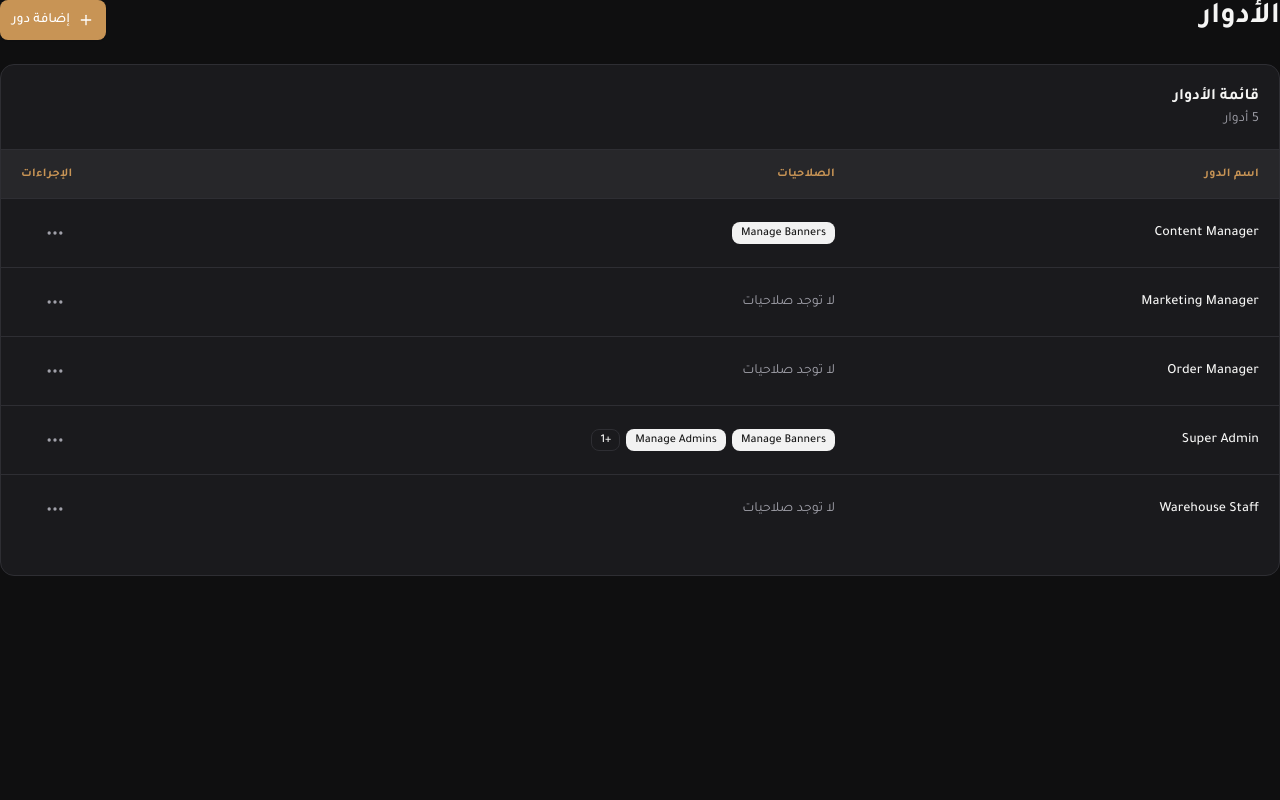
Test: RolesPage › keeps the permissions picker operable in RTL
The image size is (1280, 800).
Click the button "إضافة دور": point(53, 20) [0, 0, 106, 40]
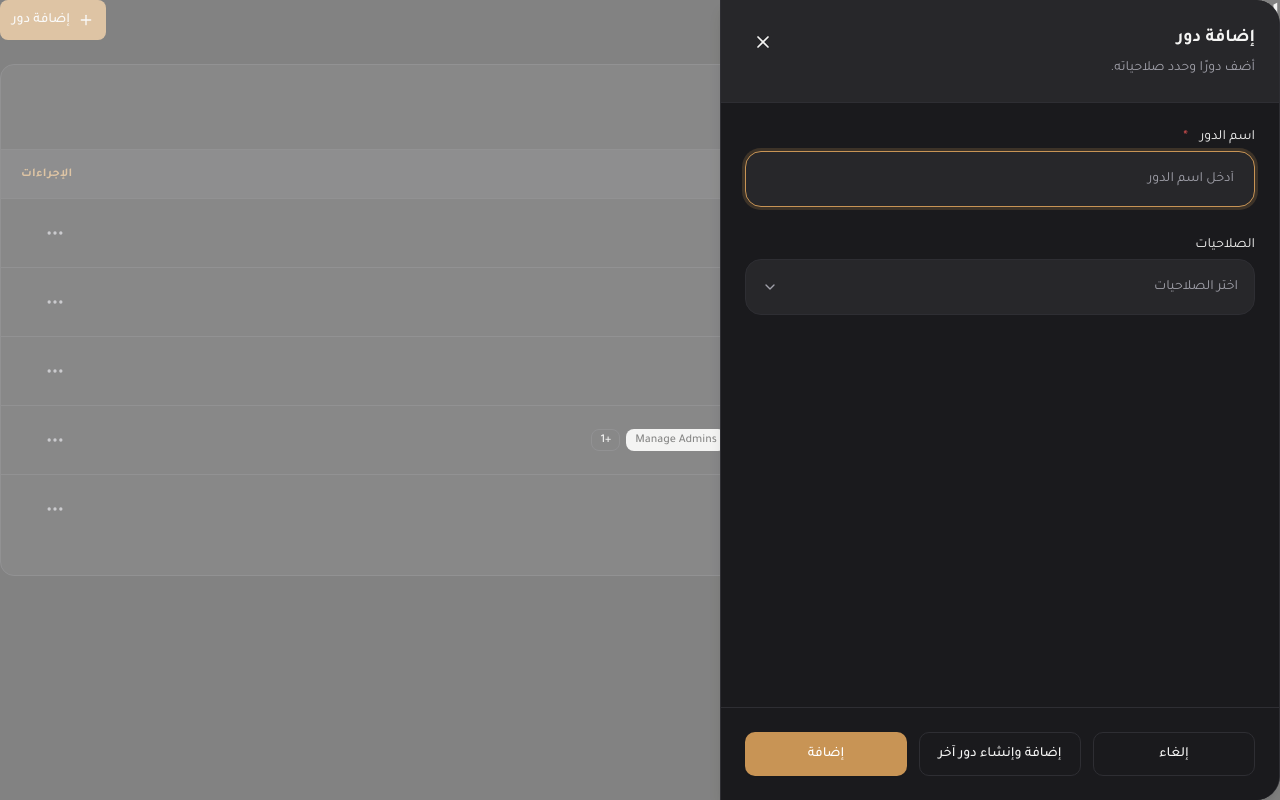
Click the button "اختر الصلاحيات": point(1196, 287) [745, 259, 1255, 315]
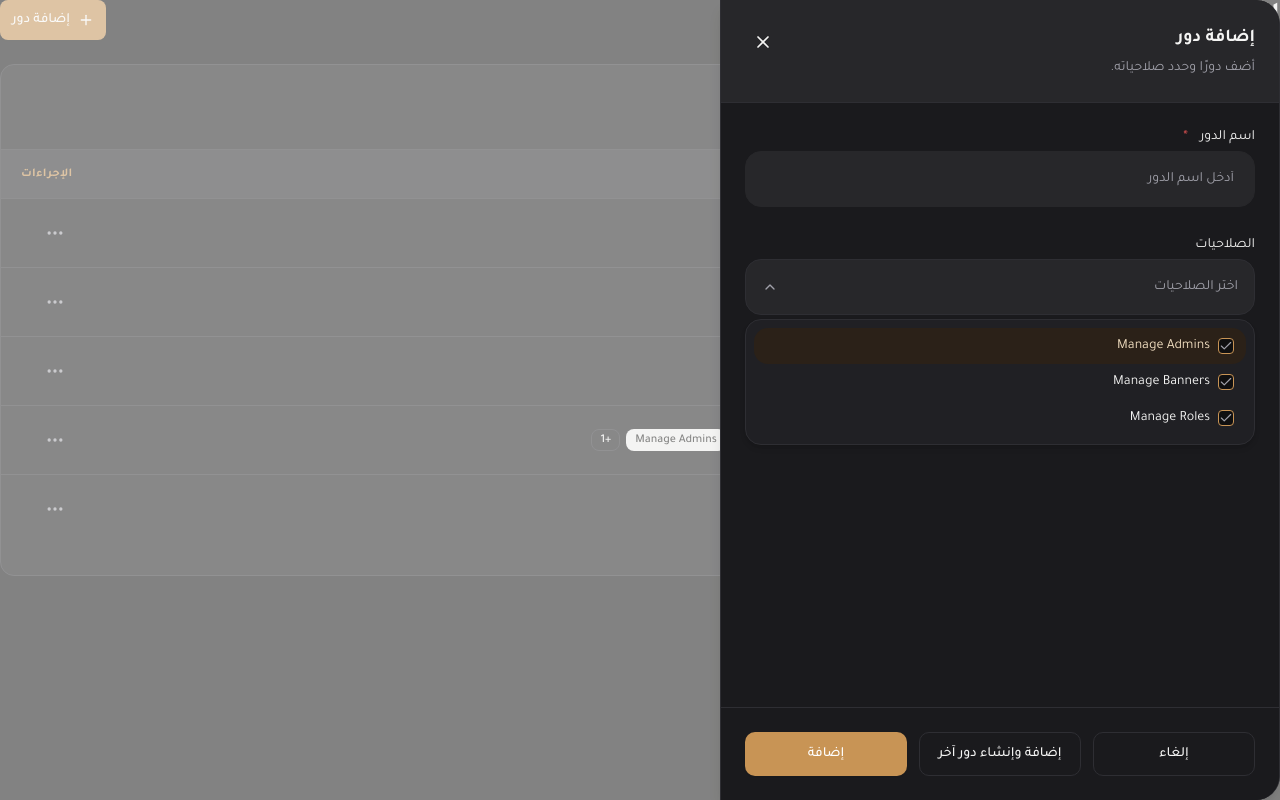
Click the option "manage roles": point(1182, 418) [1130, 410, 1234, 426]
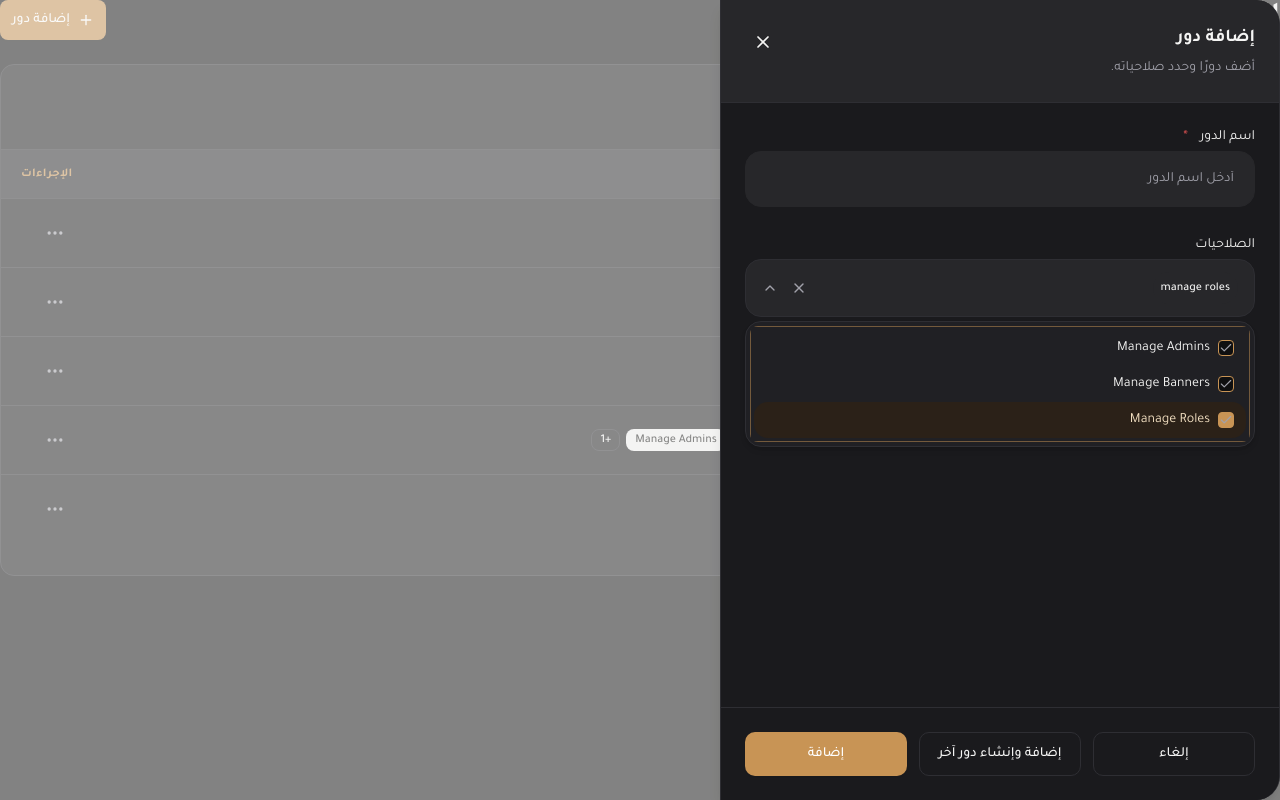
Now the button named "الصلاحيات" reads "manage roles", box [745, 259, 1255, 317]
